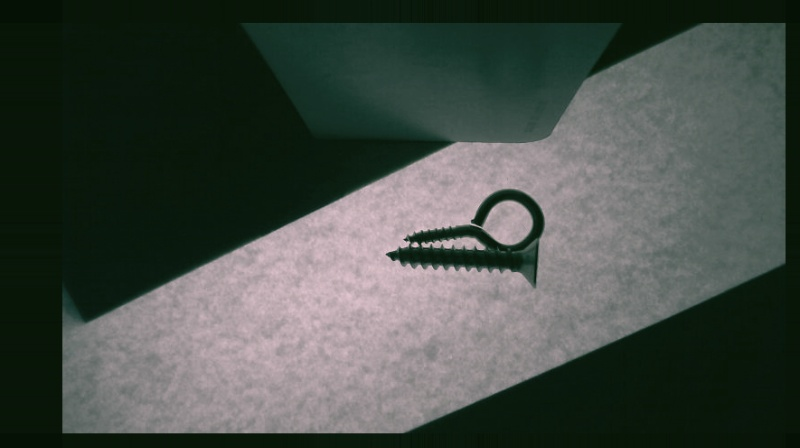O001: (402, 190, 543, 256)
S001: (384, 239, 541, 290)
